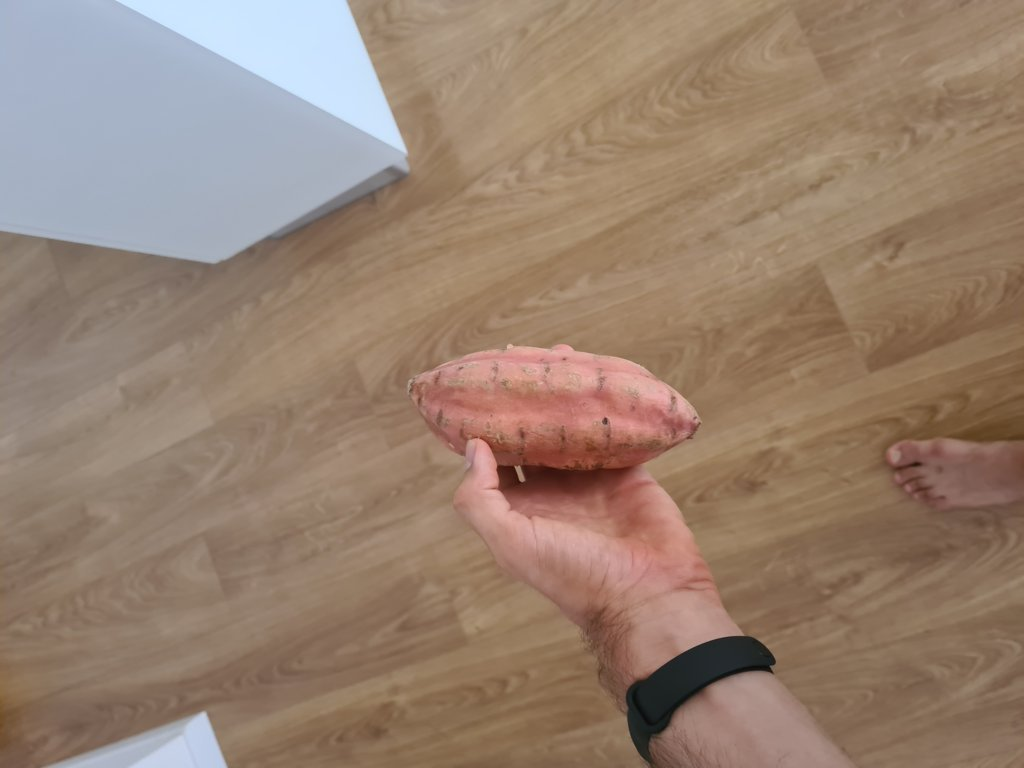Sweet Potatow: (420, 347, 701, 472)
